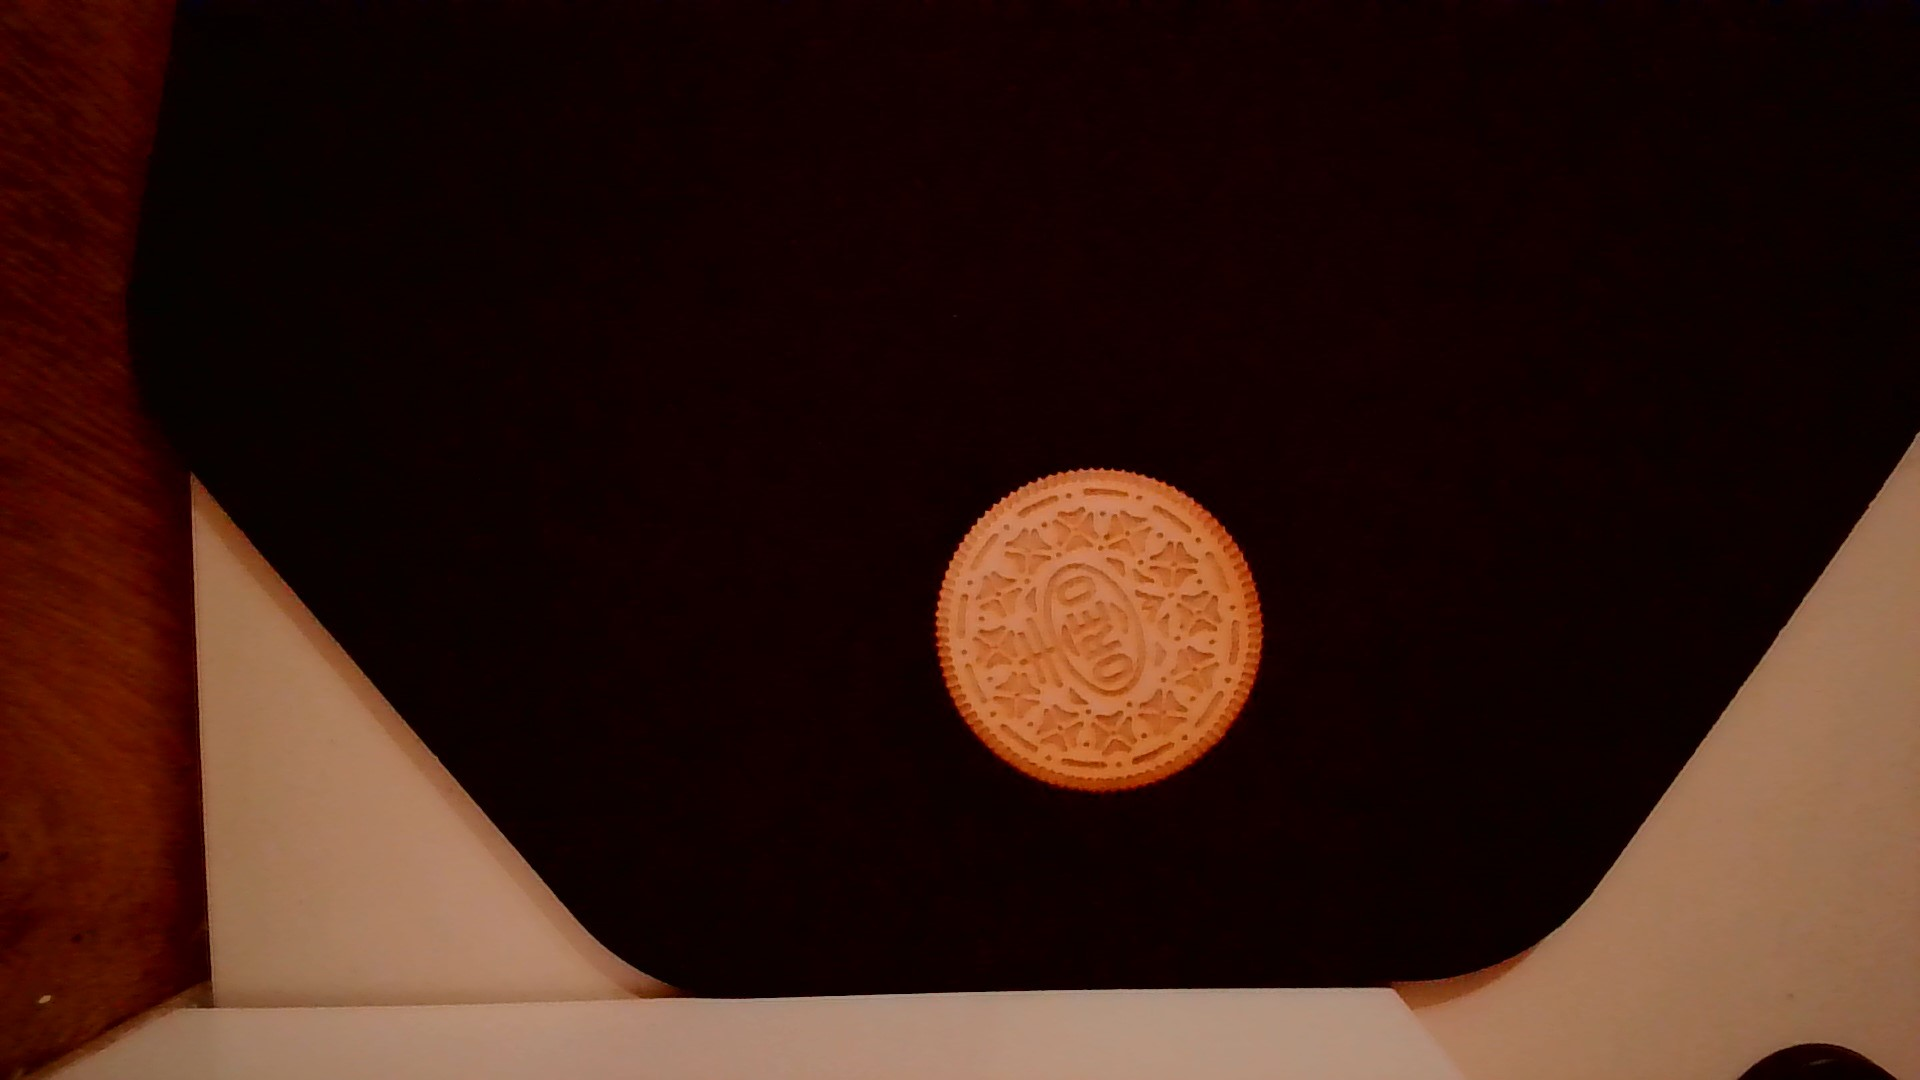Oréo: (927, 464, 1270, 804)
